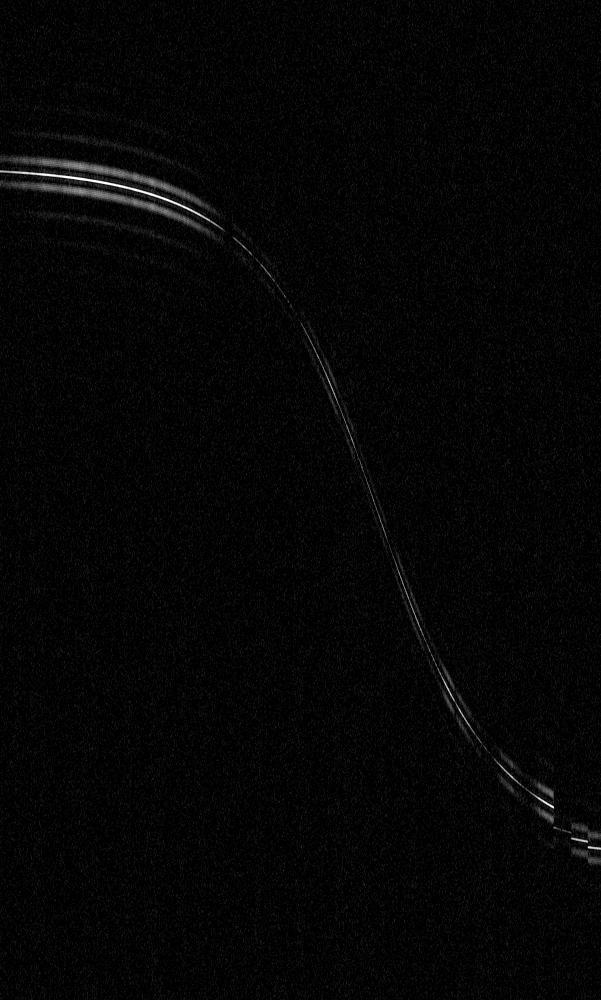signal: (0, 0, 600, 999)
